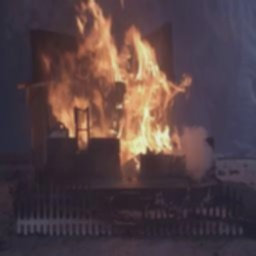fire: (31, 0, 203, 151)
